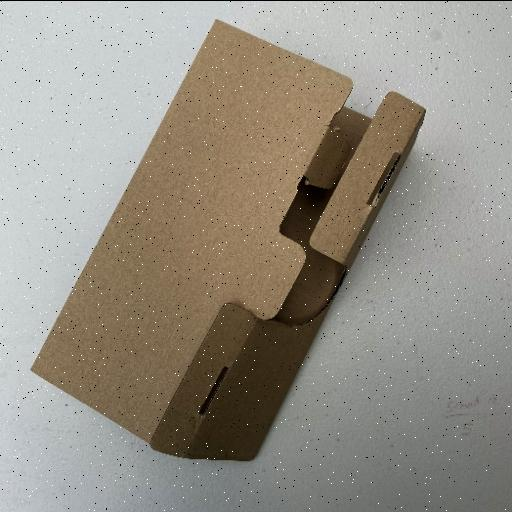Cardboard: (27, 17, 427, 463)
